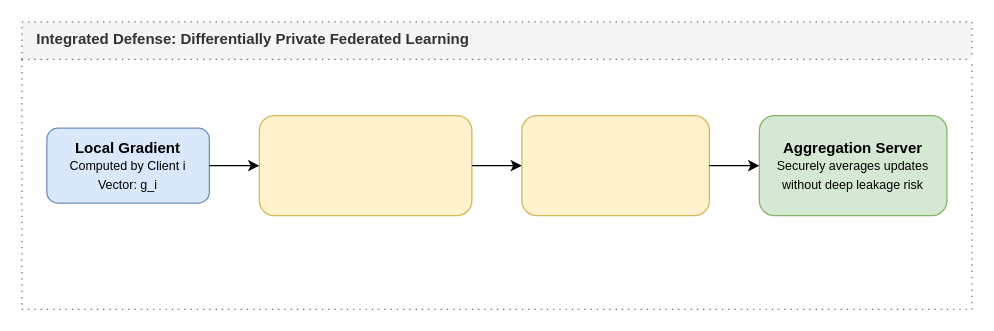
The diagram is 994 pixels wide and 331 high, and some of its shapes have lost their labels. The shapes that lost their labels are listed below. From the top down, each one's centre as x and y in pixels, then its label:
[365,165]: Gradient Clipping Clip L2 norm to C g_c = g_i / max(1, ||g_i||/C)
[615,165]: Noise Injection Adds Gaussian Noise η ~ N(0, σ^2 I)
